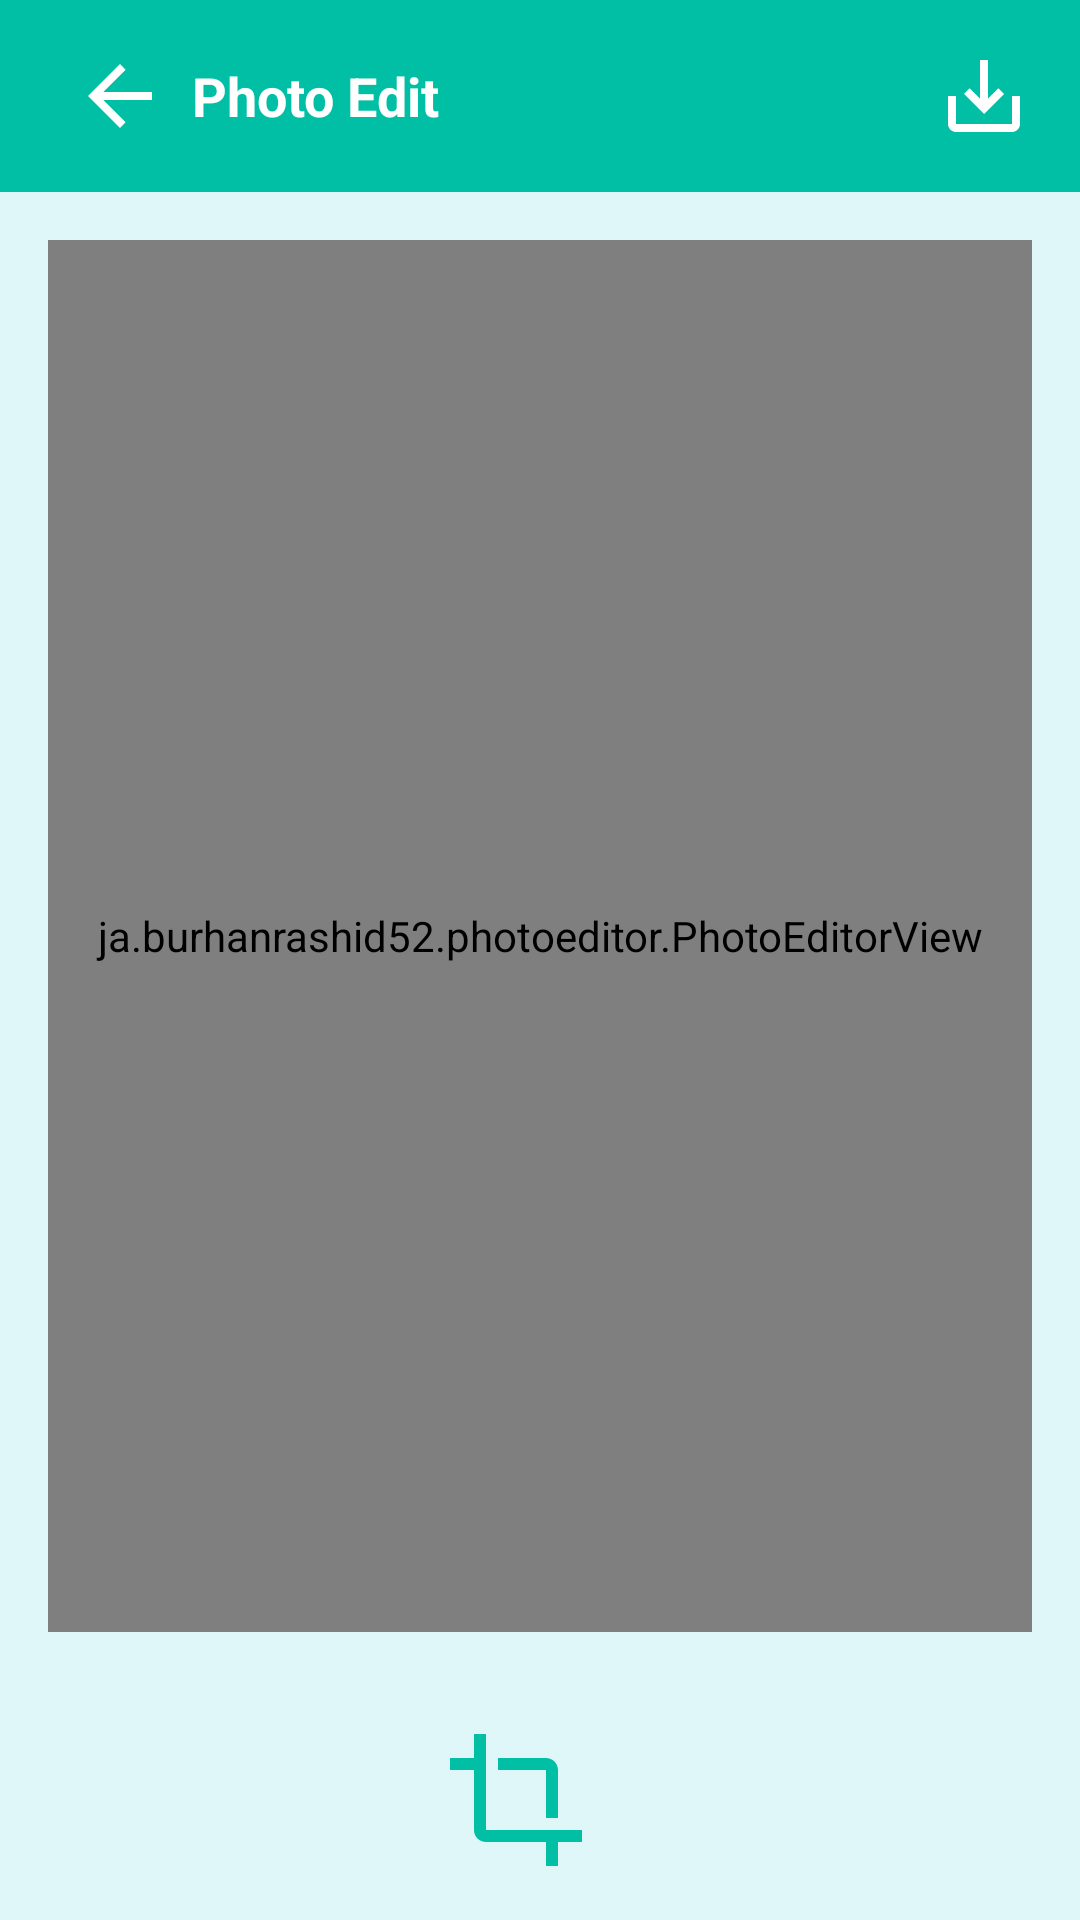

Where icons sit on this 1080 x 1920 app screen, as (x1, y1, x2, y2):
Back: (88, 64, 152, 128)
Crop: (450, 1734, 582, 1866)
Save: (948, 60, 1020, 132)
